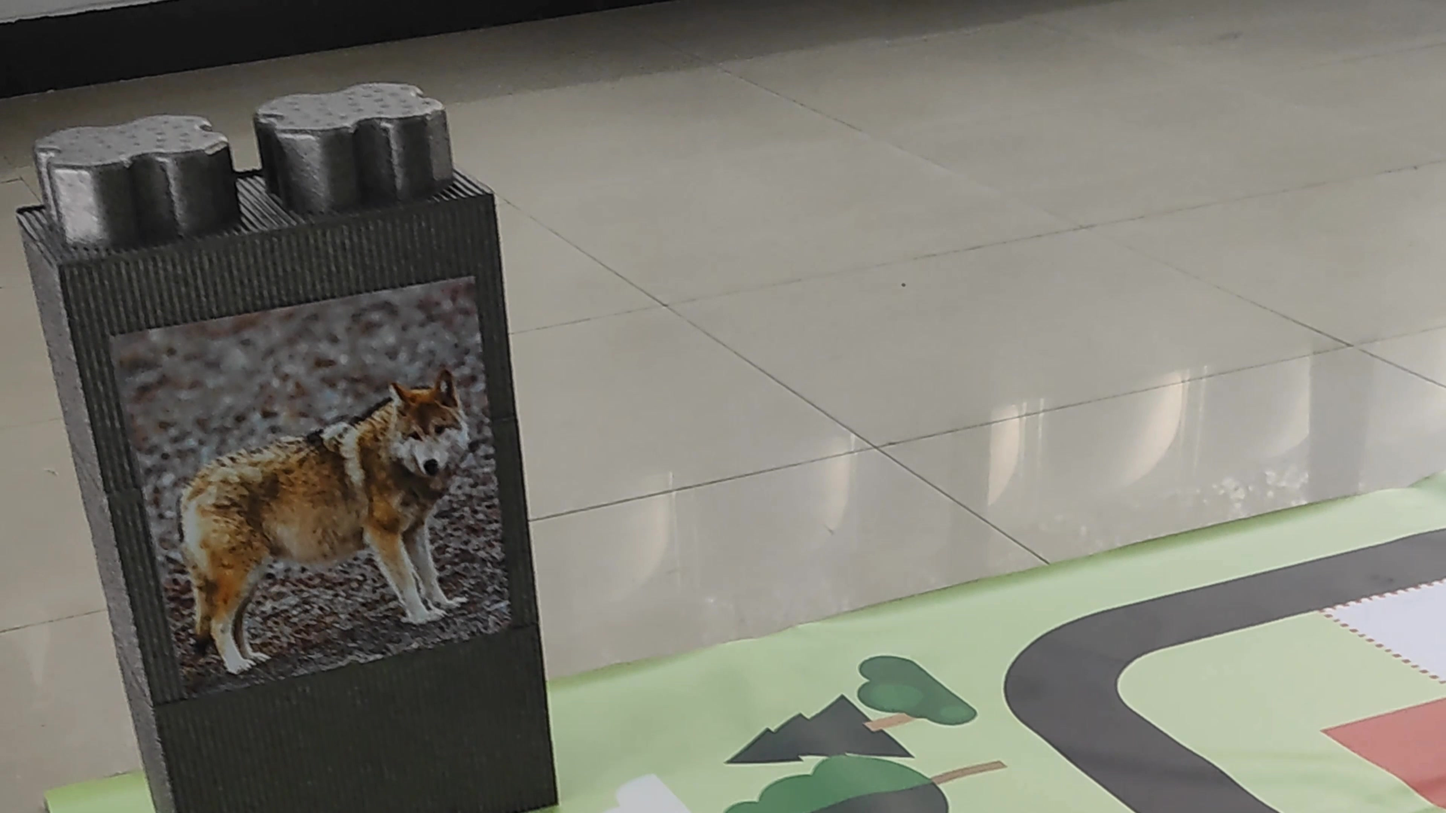wolf: (106, 299, 494, 664)
